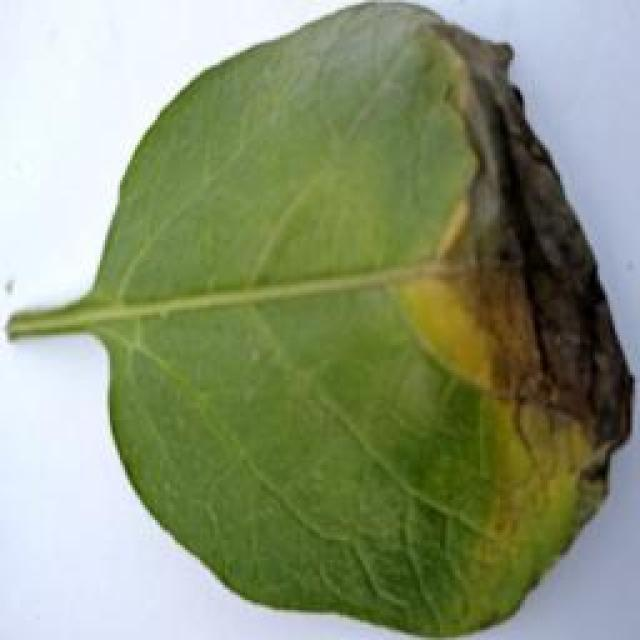Potato_Late_Blight: (8, 6, 624, 633)
